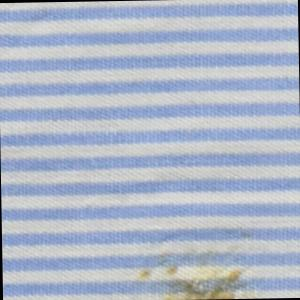Oil Stain: (133, 224, 259, 300)
